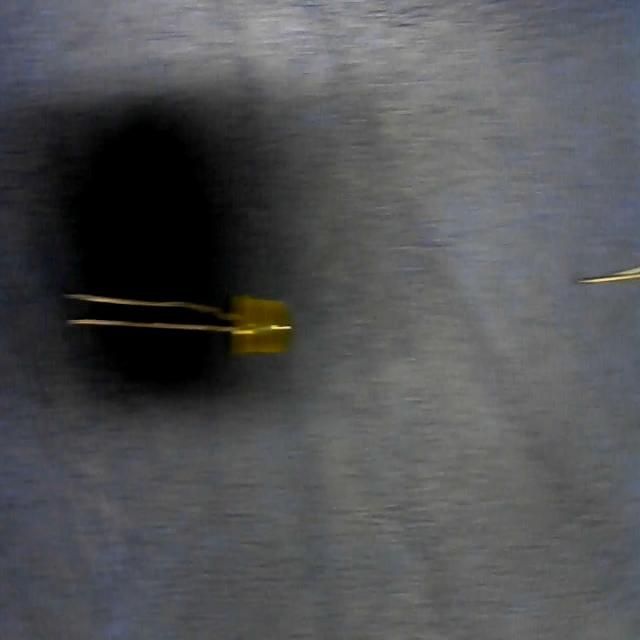LED: (60, 278, 292, 362)
